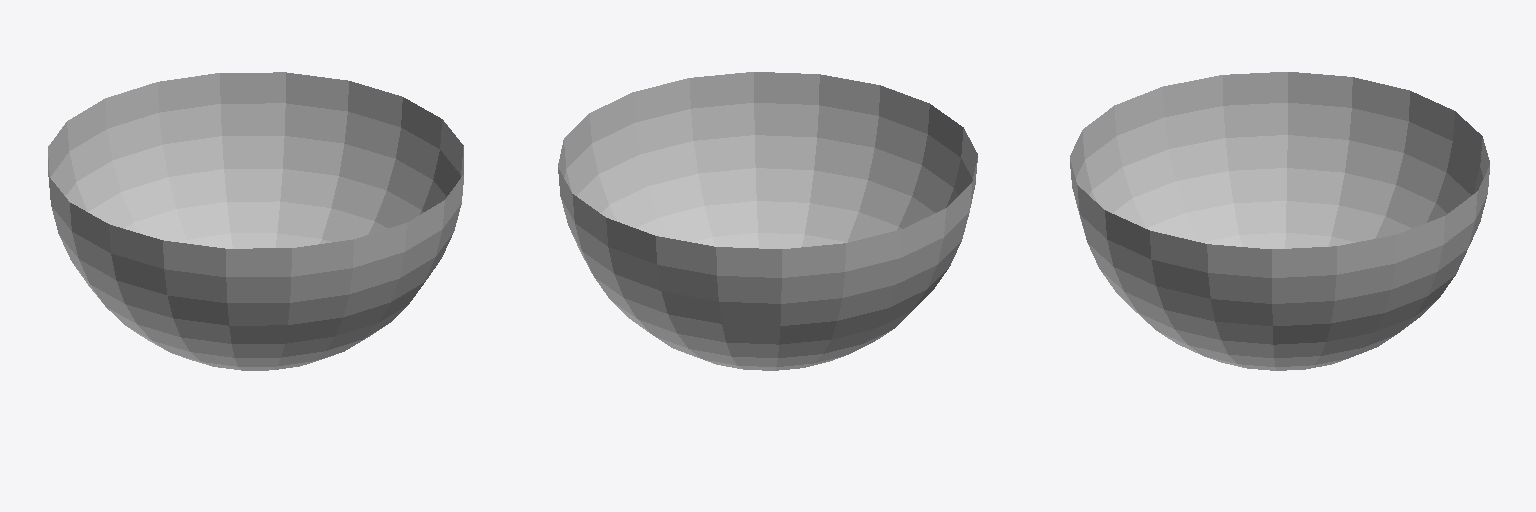
The model's file is pokeab.obj.
The picture shows the model from 3 angles: view 1: azimuth 30°, elevation 25°; view 2: azimuth 150°, elevation 25°; view 3: azimuth 270°, elevation 25°; orthographic projection.
Parts seen in each view (by area): view 1: polySurface1pSphere2; view 2: polySurface1pSphere2; view 3: polySurface1pSphere2.
Part boxes in pixels (left/top/right/bottom): polySurface1pSphere2: left=48, top=72, right=463, bottom=370; polySurface1pSphere2: left=558, top=72, right=977, bottom=370; polySurface1pSphere2: left=1070, top=72, right=1489, bottom=370.
Bounding box in the file's own units: 2 × 1 × 2.